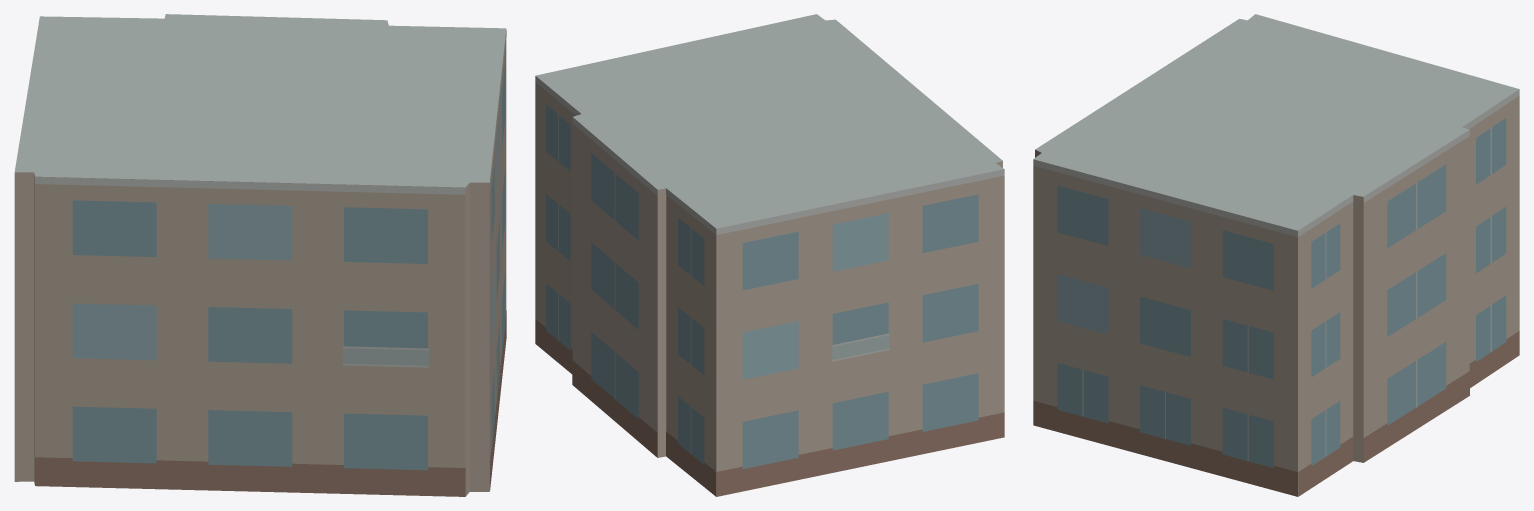
File: survey-upis-32731723.glb
3 views of the same model, side by side, from view 1: azimuth 30°, elevation 25°; view 2: azimuth 150°, elevation 25°; view 3: azimuth 270°, elevation 25° (orthographic). The views are drawn at different scales.
Visible parts, largest first — view 1: survey-upis-32731723.tmp; view 2: survey-upis-32731723.tmp; view 3: survey-upis-32731723.tmp.
Part boxes in pixels (left/top/right/bottom): survey-upis-32731723.tmp: left=14, top=14, right=506, bottom=496; survey-upis-32731723.tmp: left=535, top=14, right=1004, bottom=496; survey-upis-32731723.tmp: left=1033, top=14, right=1519, bottom=496.
Bounding box in the file's own units: 17.84 × 10.2 × 16.91.
